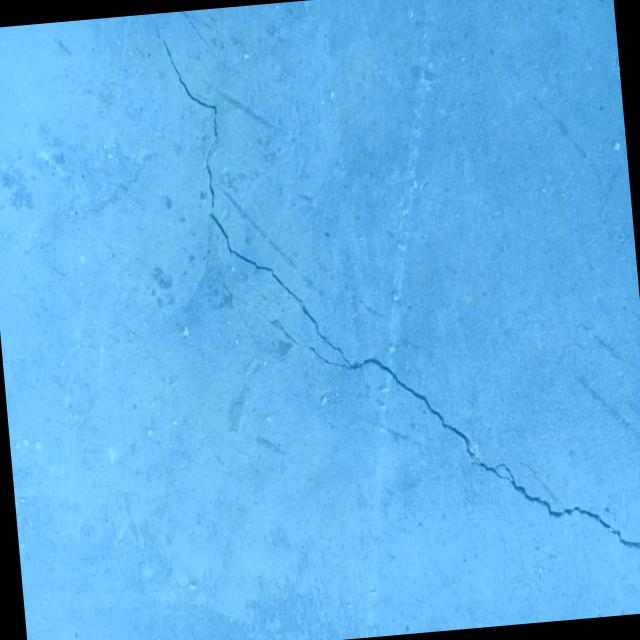crack: (153, 0, 640, 627), (178, 8, 214, 55)
